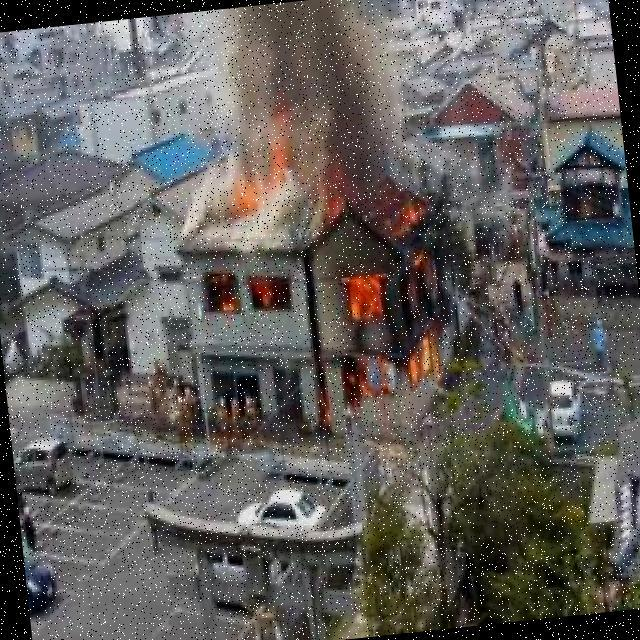Fire: (330, 210, 447, 405), (200, 264, 293, 324)
